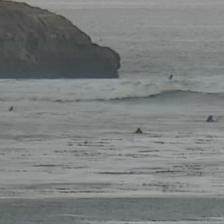surfer: (205, 114, 217, 123), (133, 128, 143, 134), (168, 74, 174, 81), (8, 106, 14, 112)
